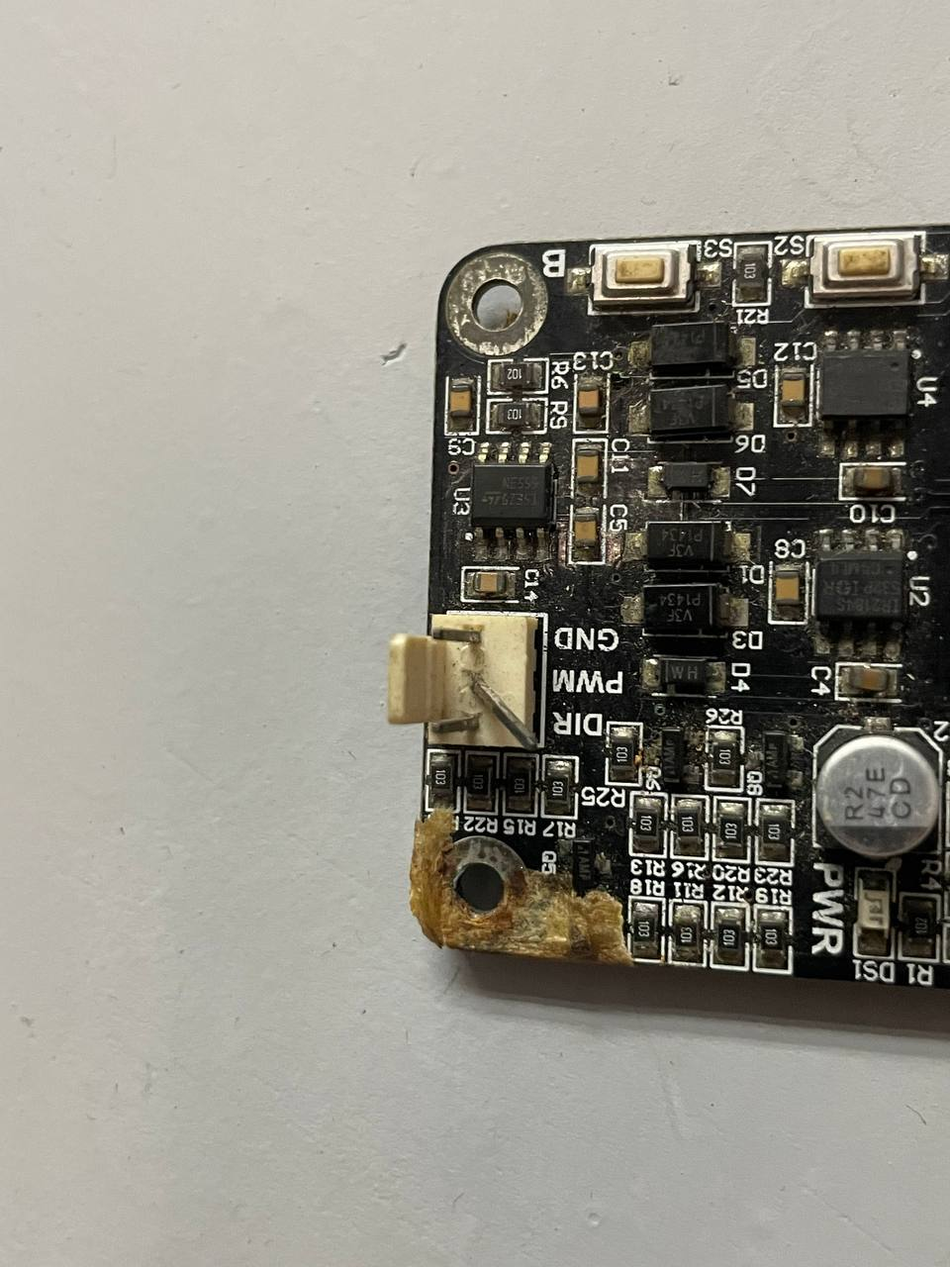bent_pin: (464, 667, 549, 757)
